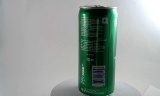sprite: (72, 4, 111, 95)
